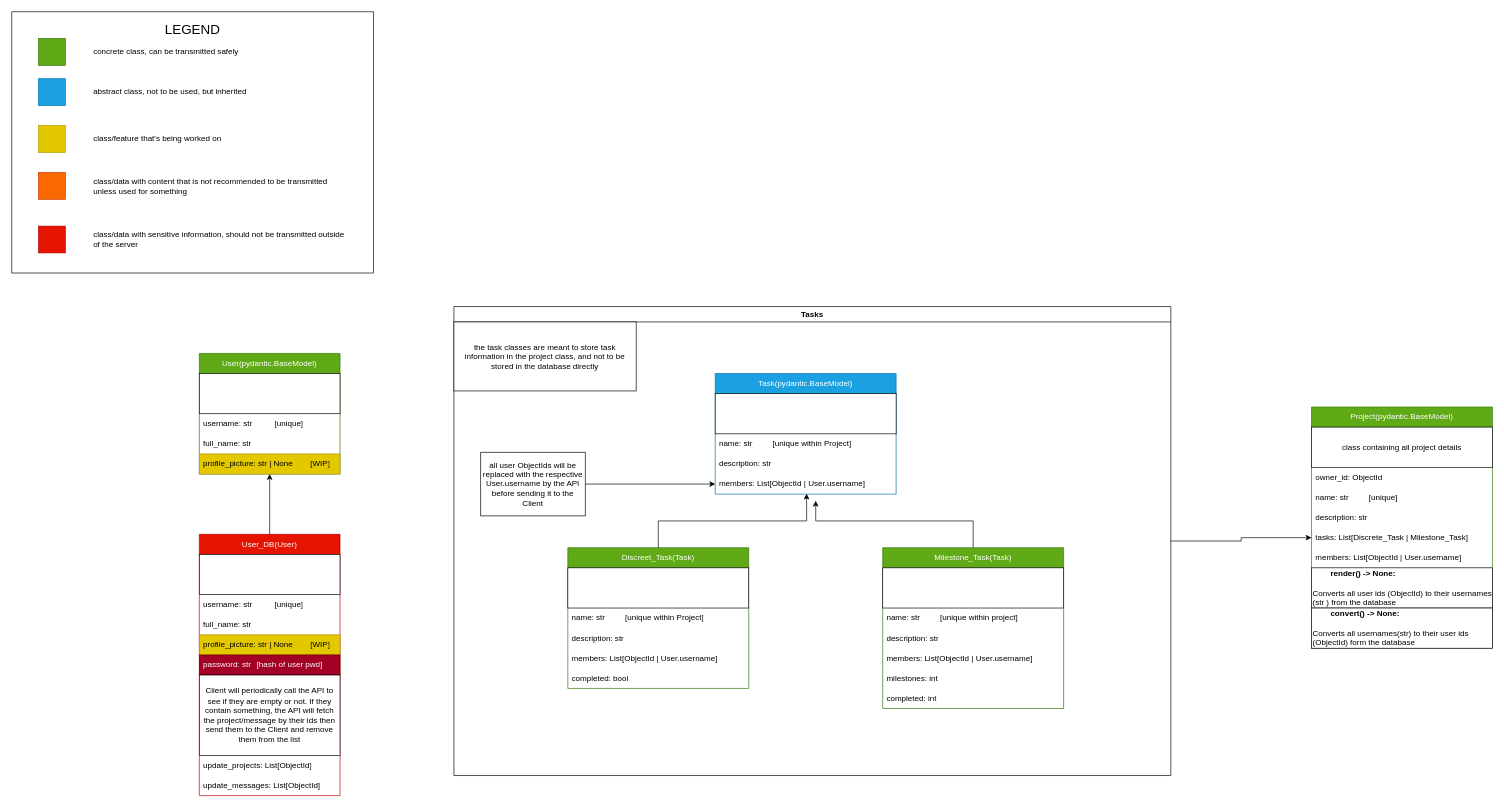
Image size: 1504x807. Some labels were removed from this diagram. The shapes that lost their labels are listed below. From the top down, each one's centre as x and y in pixels, then its label:
At point (269, 393): "class returned by the API, contains user info".
At point (805, 413): "abstract task class".
At point (269, 574): "class stored in the database only, handled only within the API".
At point (658, 587): "task that is either finished or not, no in between".
At point (973, 587): "a milestone based task, varying completion".
